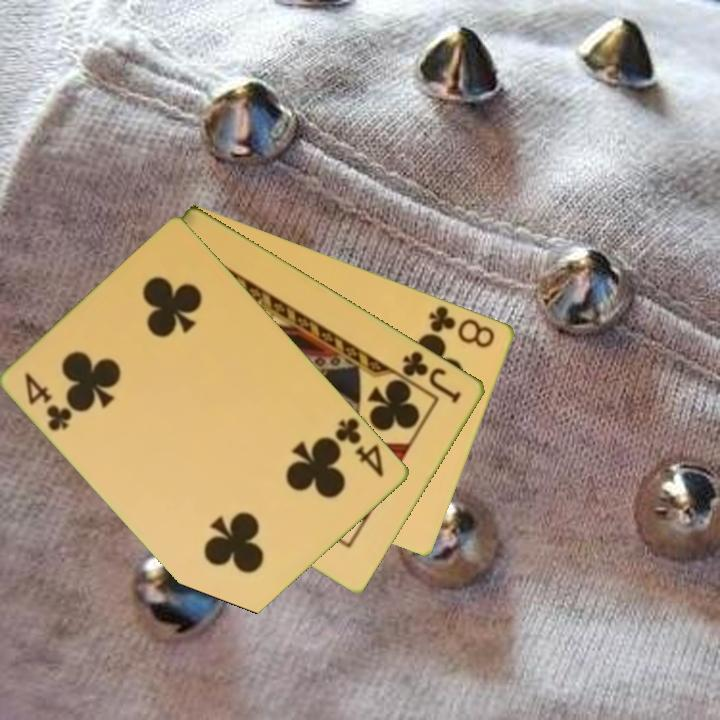4c: (332, 414, 388, 480), (21, 369, 76, 434)
8c: (426, 302, 499, 351)
Jc: (399, 347, 465, 406)
